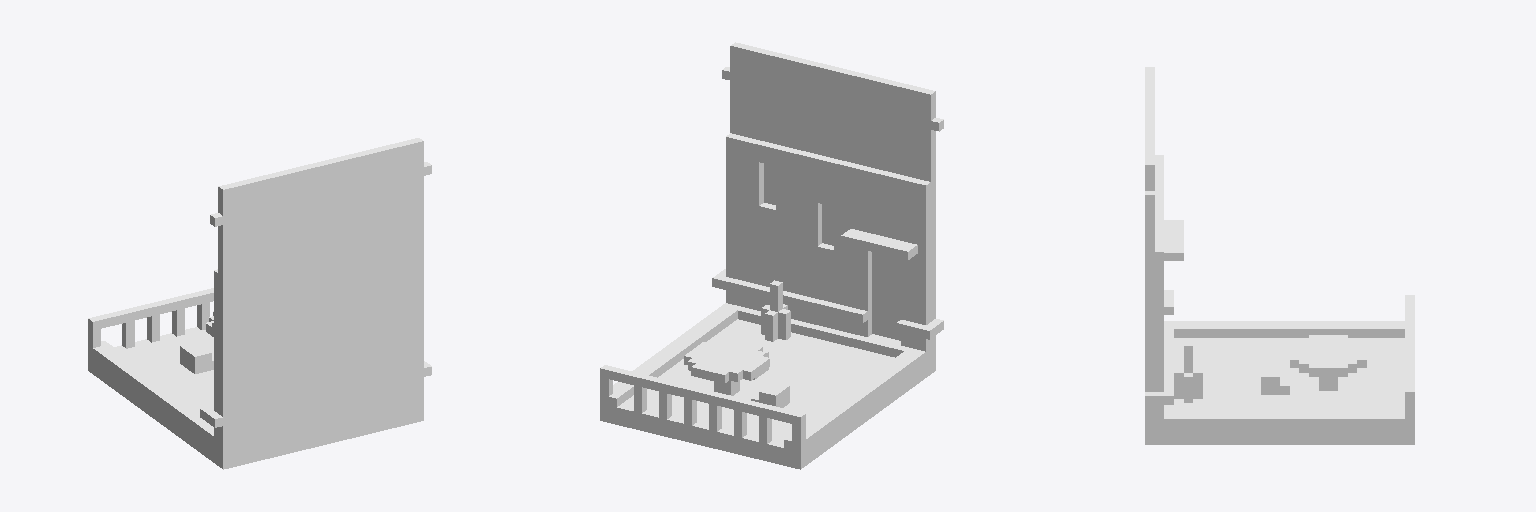
The model's file is tile_3_right_nr_90.obj.
3 views of the same model, side by side, from view 1: azimuth 30°, elevation 25°; view 2: azimuth 150°, elevation 25°; view 3: azimuth 270°, elevation 25° (orthographic).
Visible parts, largest first — view 1: object 1; view 2: object 1; view 3: object 1.
Boxes of the visible parts, <box> form: object 1: <box>88,138,431,469</box>; object 1: <box>600,42,943,469</box>; object 1: <box>1145,67,1414,444</box>.
Bounding box in the file's own units: 2.6 × 3.2 × 2.8.